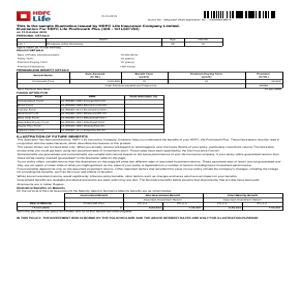image: (14, 8, 54, 22)
table: (17, 95, 165, 134), (16, 193, 284, 212), (18, 71, 284, 89), (16, 38, 224, 47)
text: (16, 134, 285, 192), (17, 47, 141, 71), (12, 23, 182, 36), (16, 214, 263, 221), (16, 89, 49, 94)
